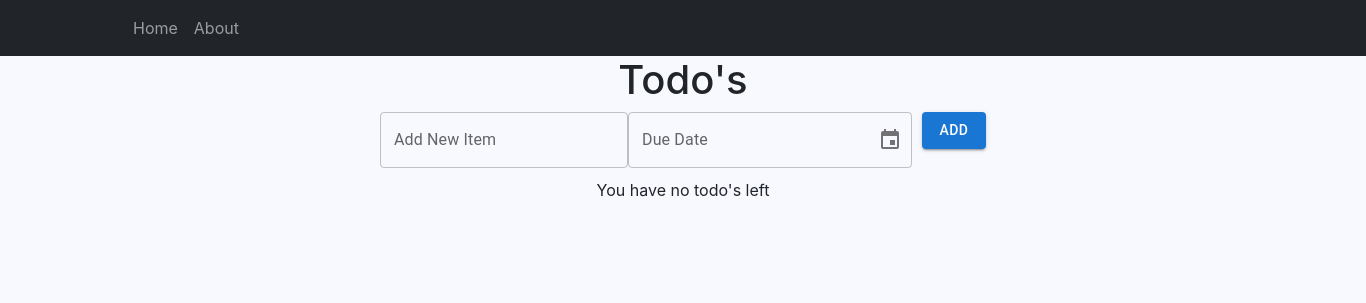
Test: test that App component can be deleted thru checkbox
Step 1. Type "Shop for Gifts" into the field labelled "Add New Item" → coordinates (504, 140), box [380,112,628,168]
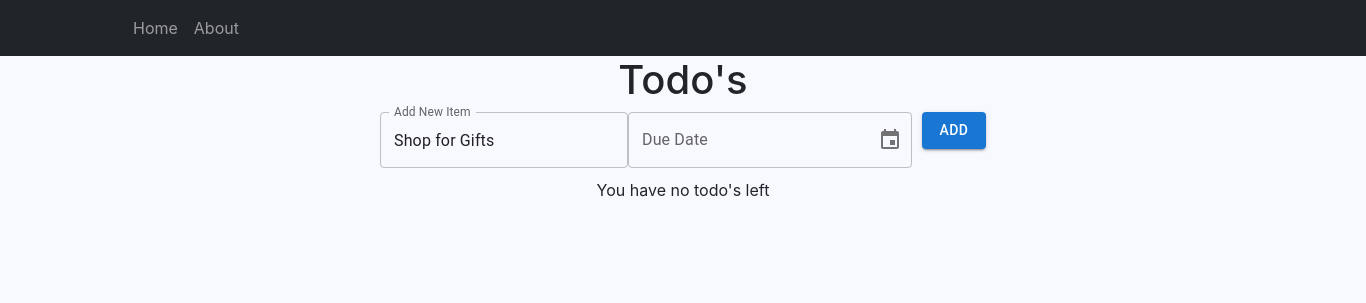
Step 2. Type "07/21/2022" into the field with placeholder "mm/dd/yyyy" → coordinates (745, 140), box [628,112,862,168]
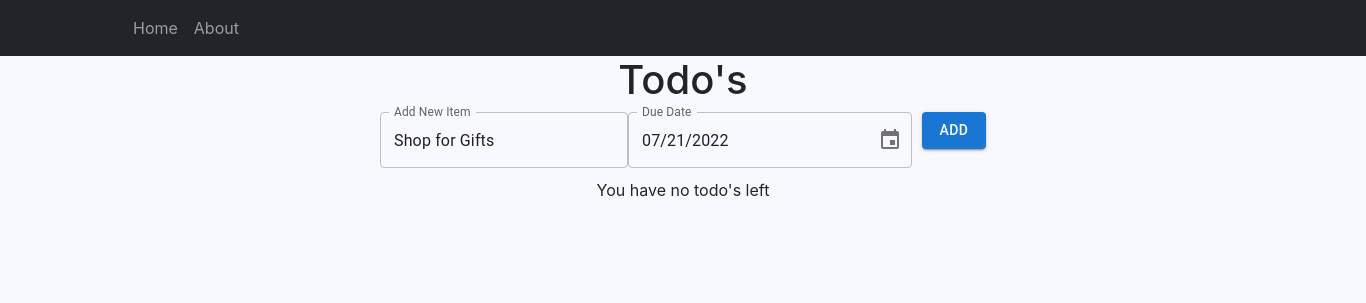
Step 3. Click the button "Add" → coordinates (954, 130), box [922,112,986,148]
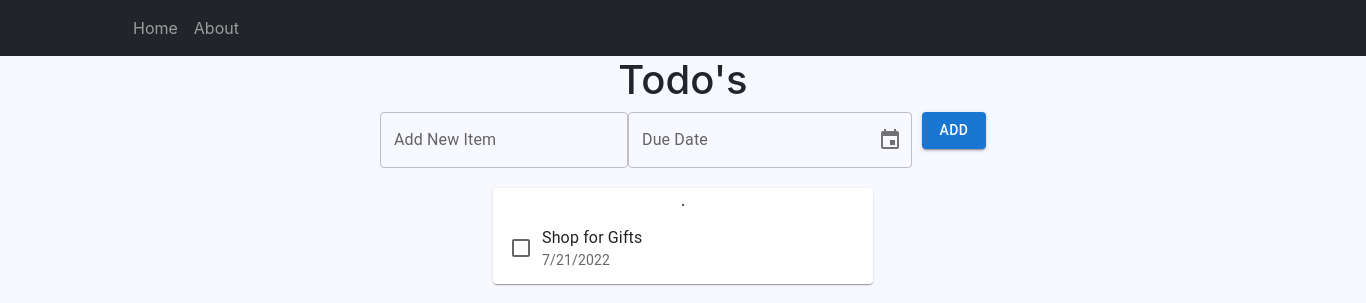
Step 4. Click the checkbox → coordinates (521, 248), box [509,236,533,260]
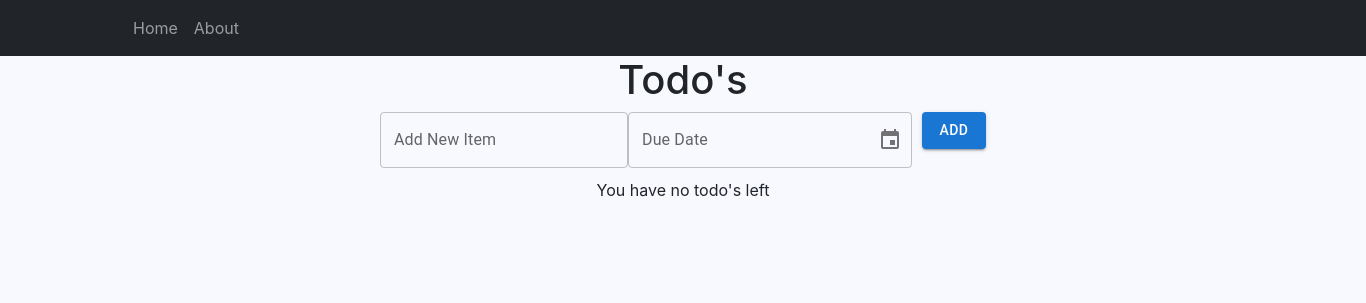
Check: the text "You have no todo's left" is shown, box [597,180,769,200]
